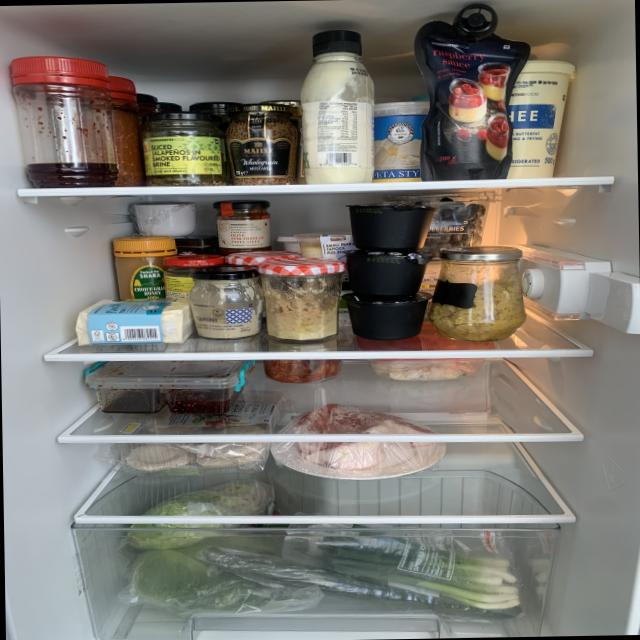Lechuga/Endivia: (127, 481, 268, 552), (134, 551, 280, 614)
Queso: (79, 301, 193, 344)
blueberries: (400, 193, 483, 253)
